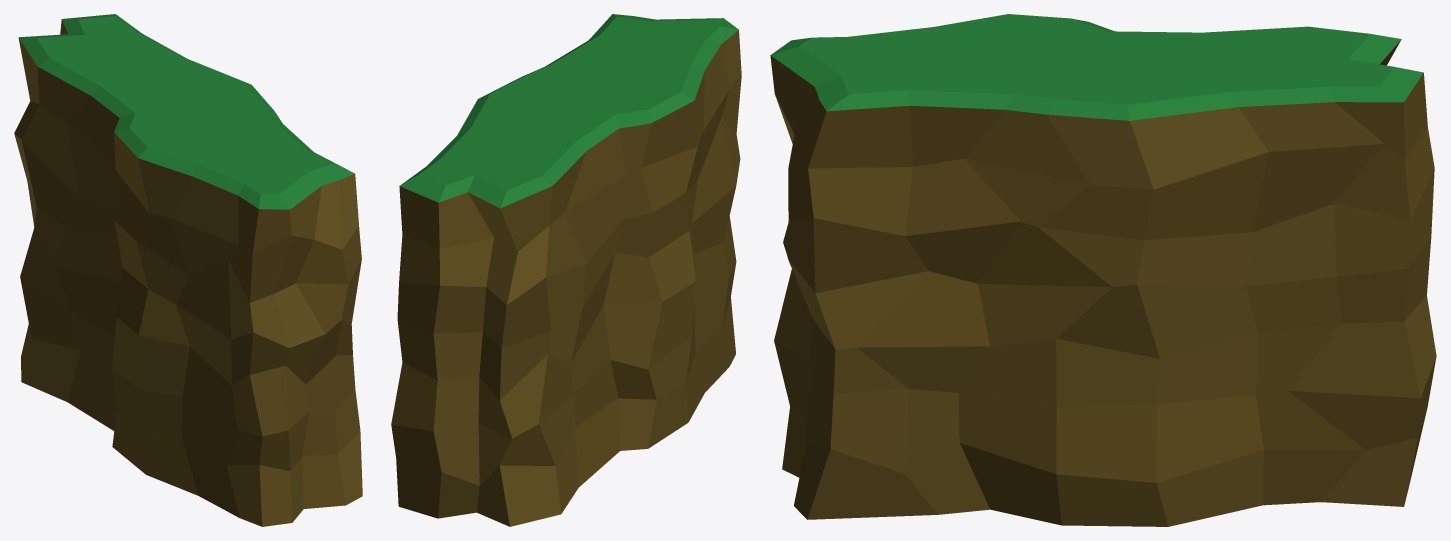
The model's file is wall.fbx.
3 renders of one model, left to right at view 1: azimuth 30°, elevation 25°; view 2: azimuth 150°, elevation 25°; view 3: azimuth 270°, elevation 25°, orthographic. The views are drawn at different scales.
Parts seen in each view (by area): view 1: Wall; view 2: Wall; view 3: Wall.
Part boxes in pixels (bbox=[...]): Wall: bbox=[14, 14, 362, 526]; Wall: bbox=[391, 14, 741, 526]; Wall: bbox=[770, 14, 1436, 526].
Size of the model in its own units: 131 by 238 by 343.
